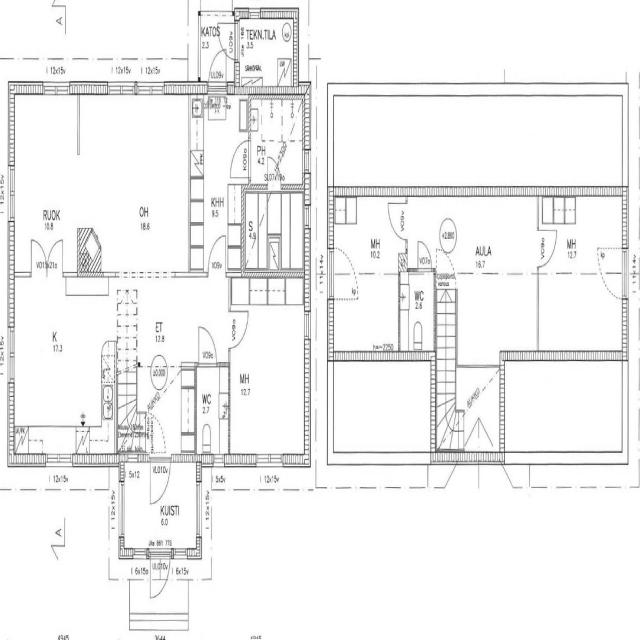door: (150, 548, 170, 600), (150, 454, 170, 503), (208, 46, 226, 95), (217, 23, 239, 60), (228, 311, 249, 348), (536, 230, 556, 268), (231, 140, 251, 177), (198, 325, 216, 366), (208, 236, 226, 276), (388, 203, 408, 239), (31, 240, 47, 277), (47, 240, 63, 277), (418, 240, 432, 272), (268, 158, 280, 189)
